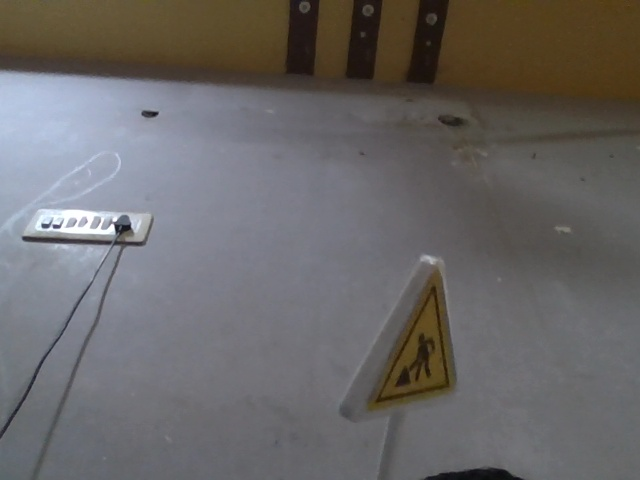workinprogress: (334, 252, 463, 414)
